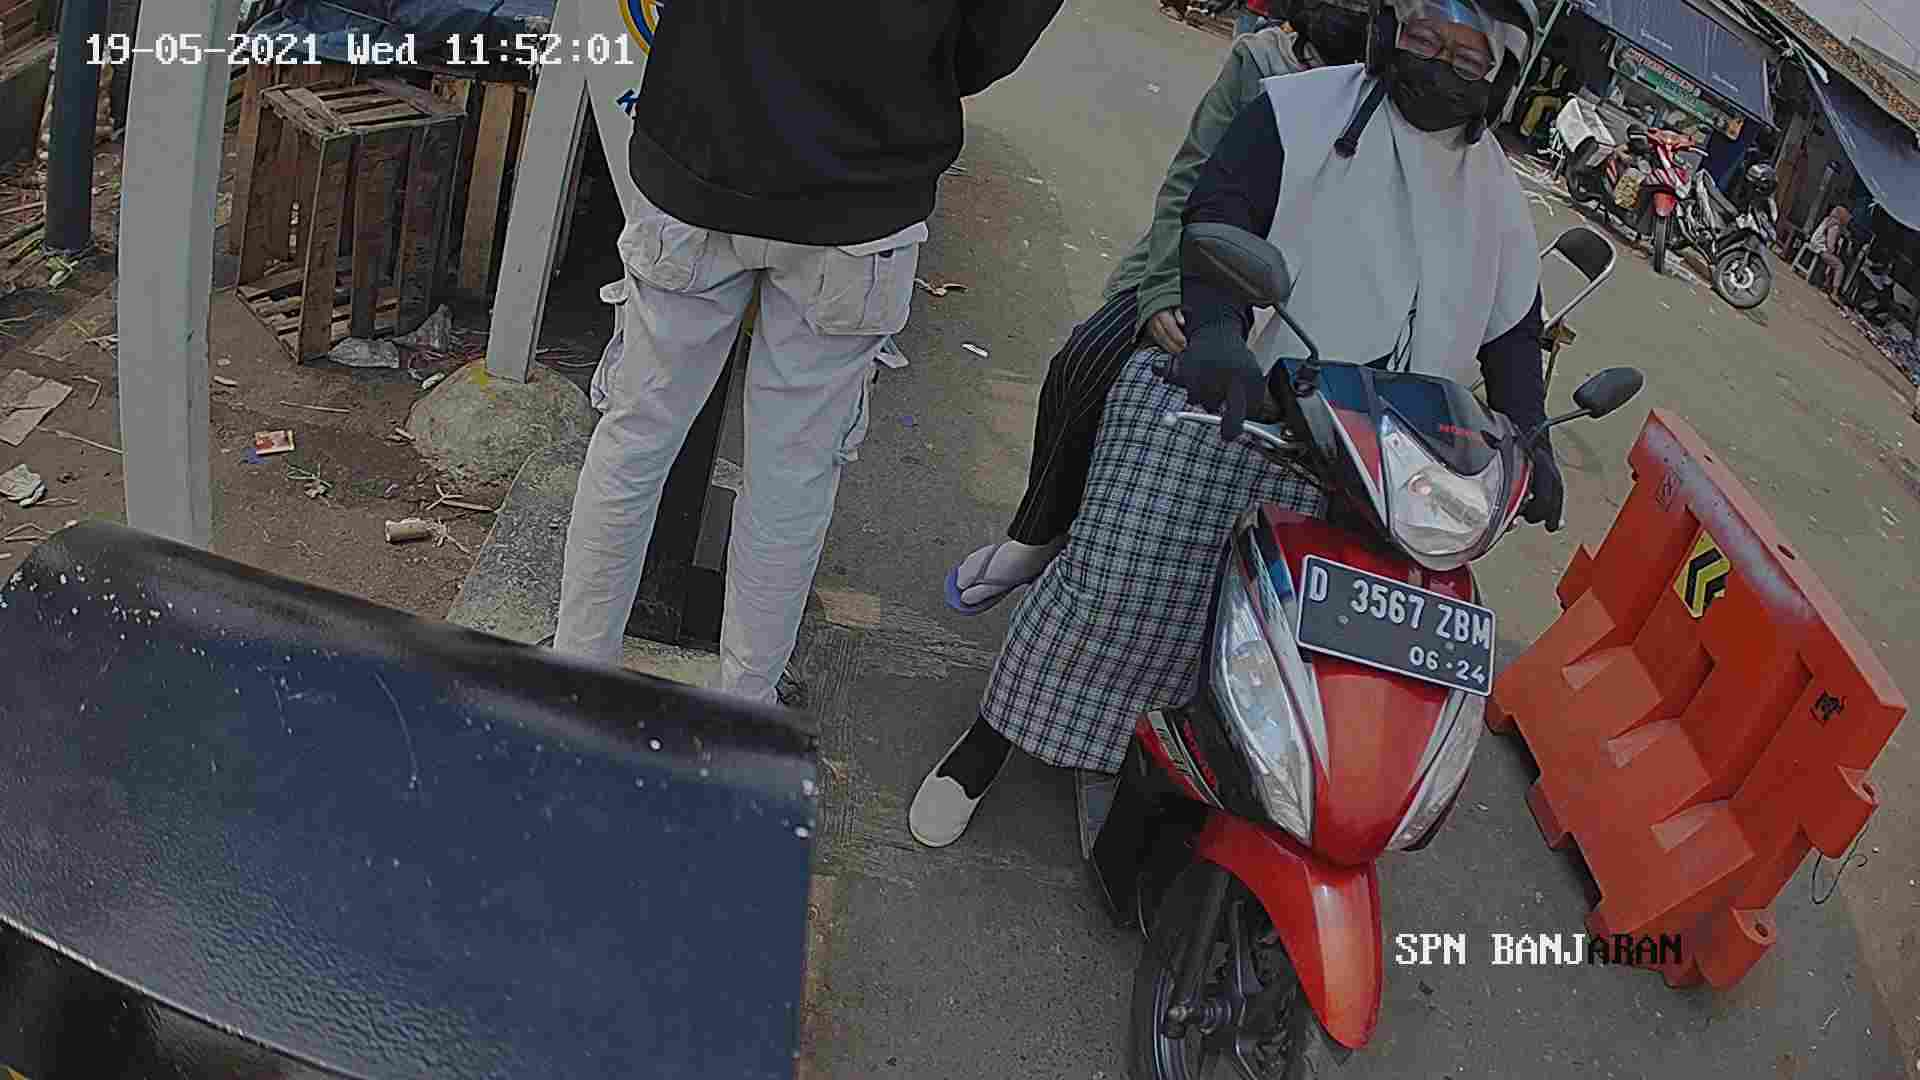motor: (1095, 344, 1474, 1080)
